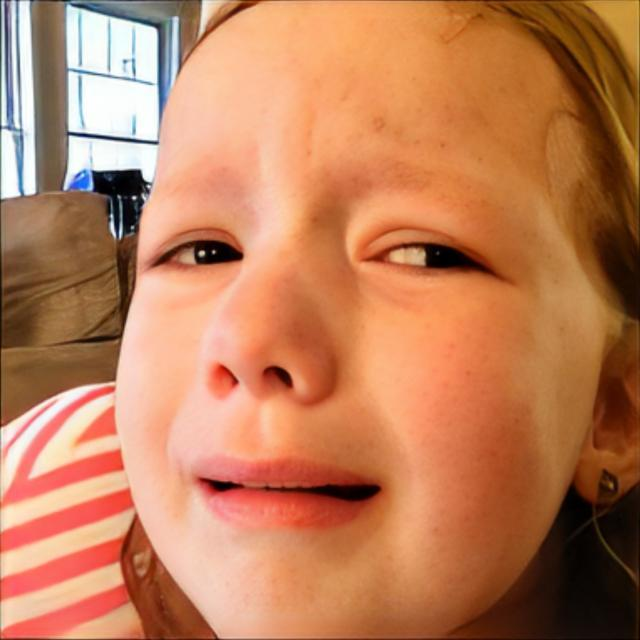sad: (112, 0, 581, 640)
